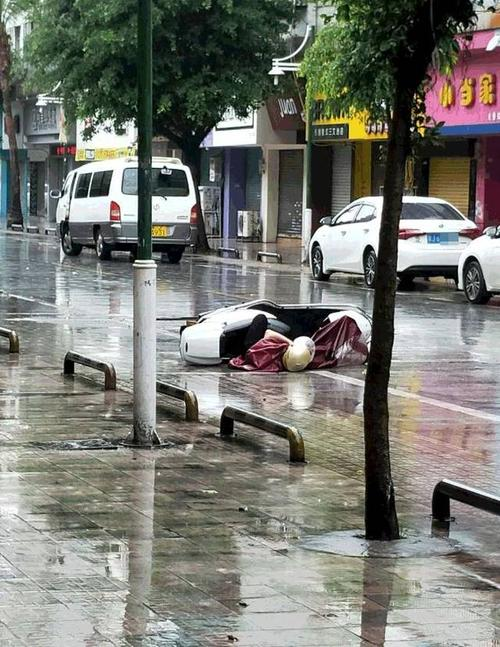fall: (220, 306, 375, 380)
